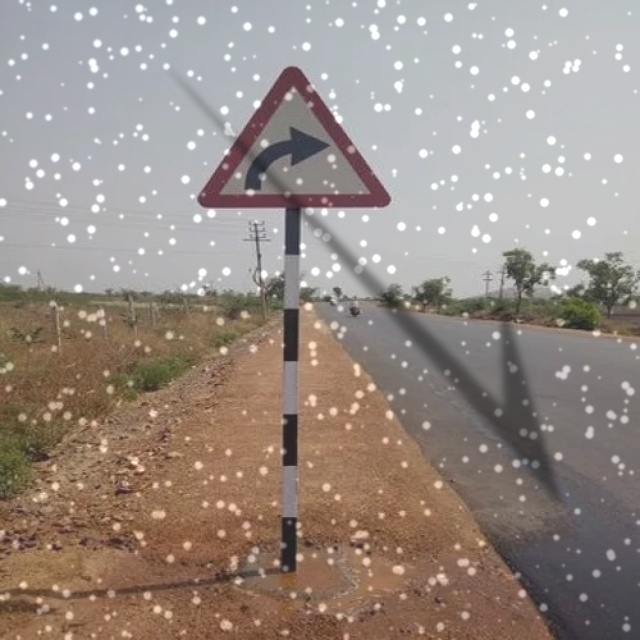Right_Hand_Curve: (198, 66, 385, 206)
